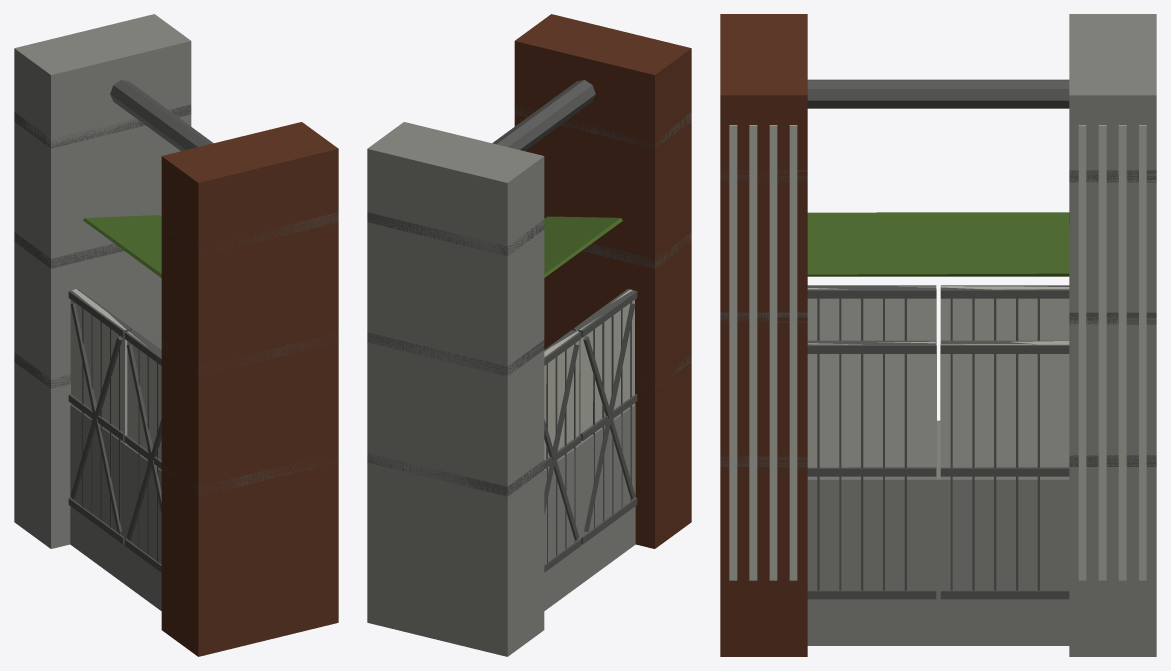
Rendered from fort_cistern_inner.glb.
3 views of the same model, side by side, from view 1: azimuth 30°, elevation 25°; view 2: azimuth 150°, elevation 25°; view 3: azimuth 270°, elevation 25° (orthographic). The views are drawn at different scales.
Visible parts, largest first — view 1: fort_cistern_inner; view 2: fort_cistern_inner; view 3: fort_cistern_inner.
Boxes of the visible parts, x1,y1,x2,y2 form: fort_cistern_inner: [14, 14, 338, 656]; fort_cistern_inner: [367, 14, 691, 656]; fort_cistern_inner: [720, 14, 1156, 656].
Bounding box in the file's own units: 4.45 × 14.2 × 10.
